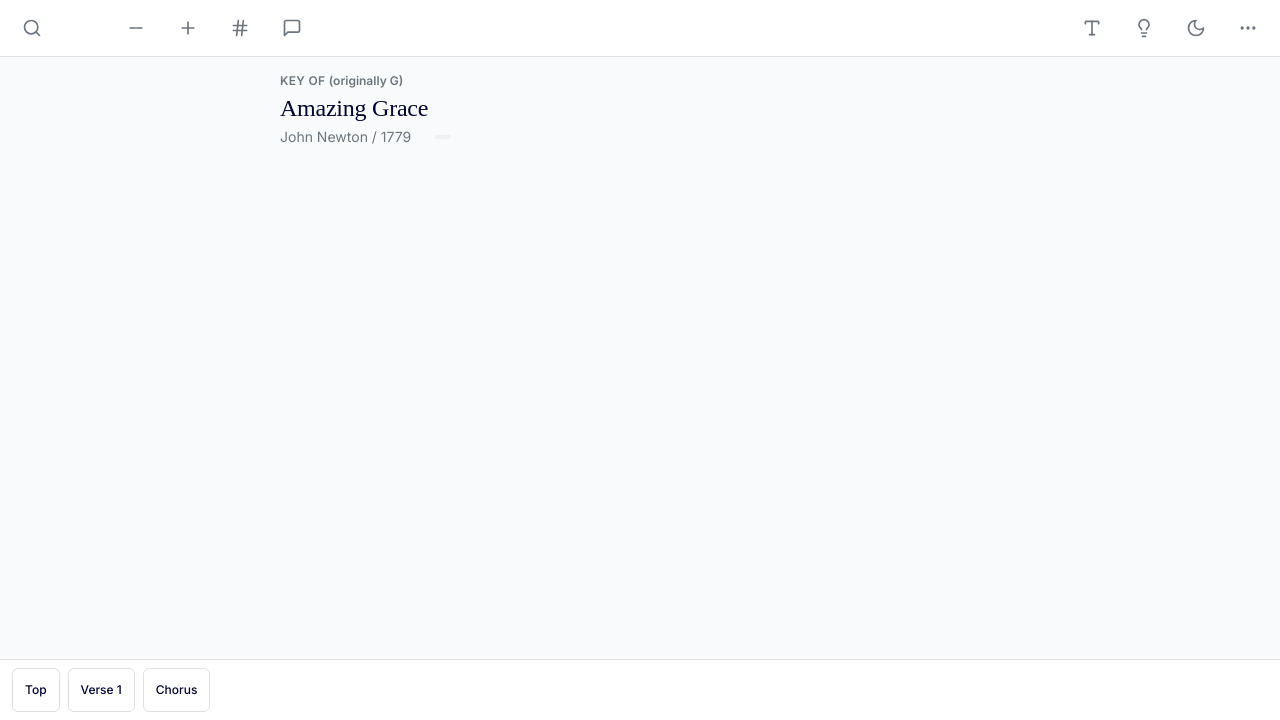
Test case: SongChartPage › More menu › shares the chart through a dialog, with the key on screen in the link
What coordinates should you click on to do the following:
click the button named "more actions"
I would click on:
 (1248, 28)
Its box is [1224,4,1272,52].
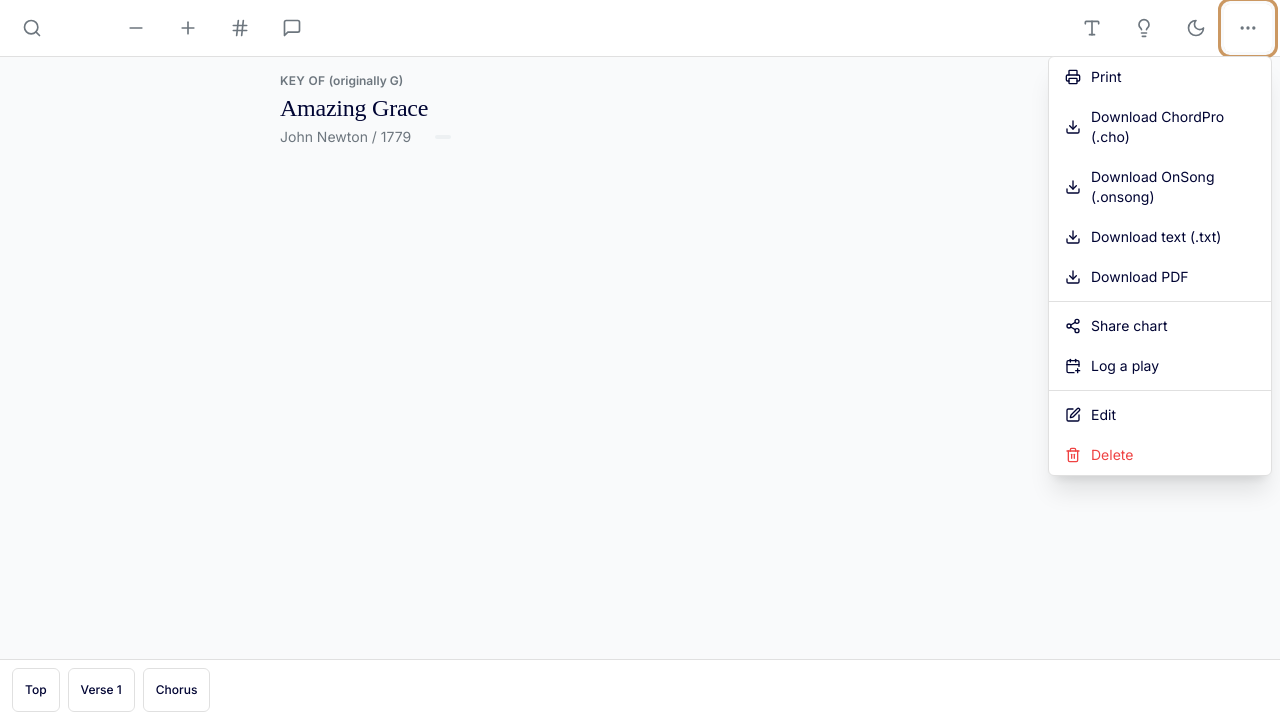
What coordinates should you click on to do the following:
click the menu item "Share chart"
I would click on:
 (1160, 326)
Its box is [1049,306,1271,346].
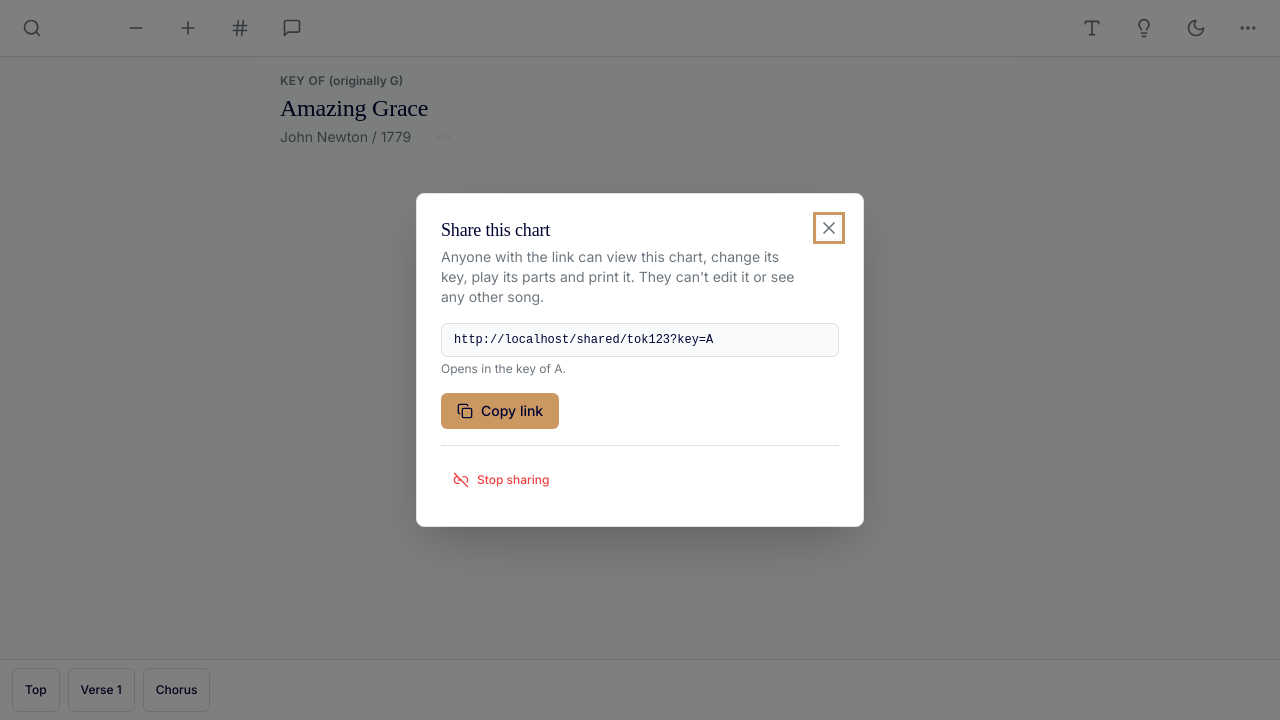
Expected: the text "Opens in the key of A." is shown, [441,361,566,376]
